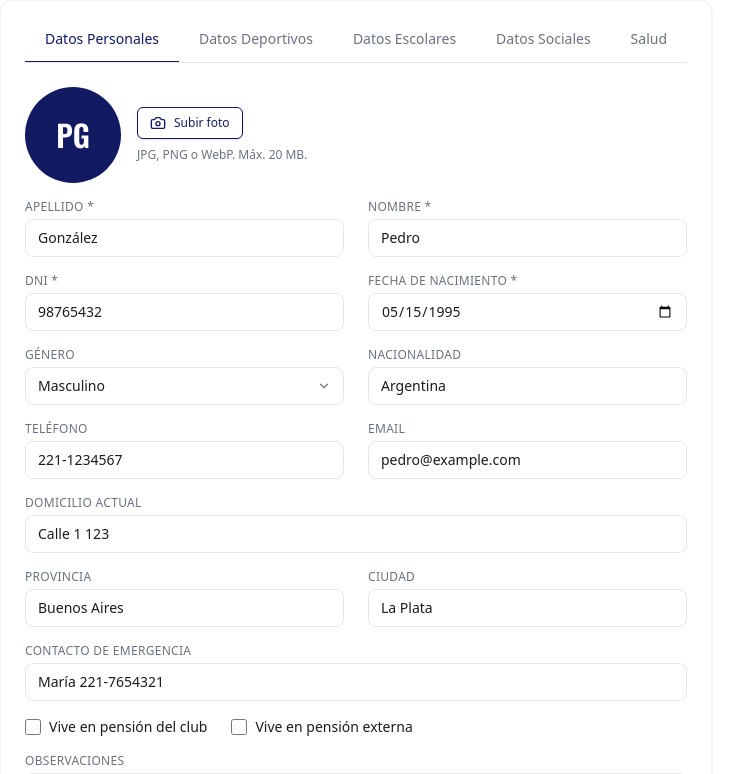
Scenario: DeportistaForm — mode=edit › precarga los valores de DatosEscolares en la pestaña Escolar
Click the tab "Datos Escolares".
click(404, 40)  # box [333,17,476,63]
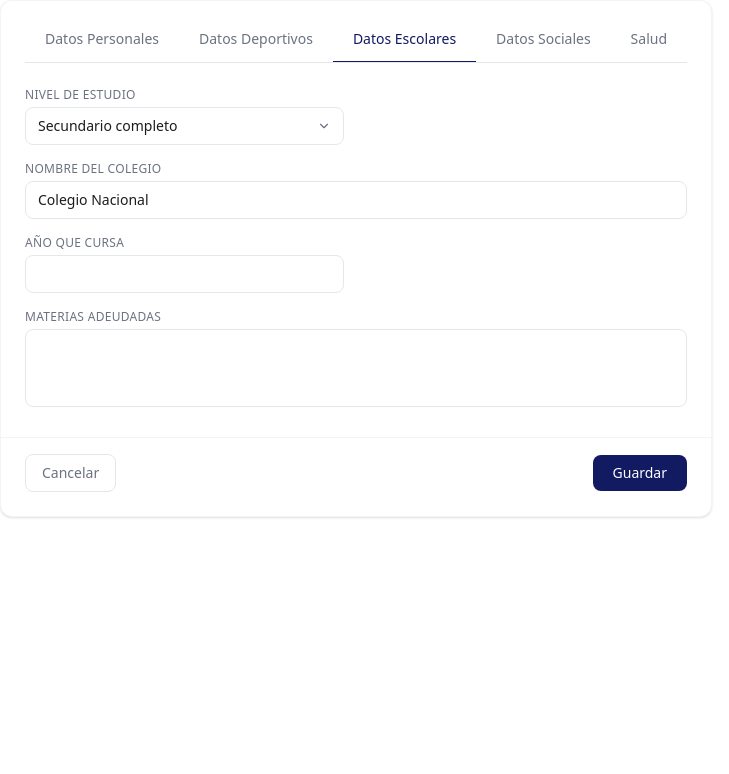
Check: the field showing "Colegio Nacional" is shown, box [25,181,687,219]
